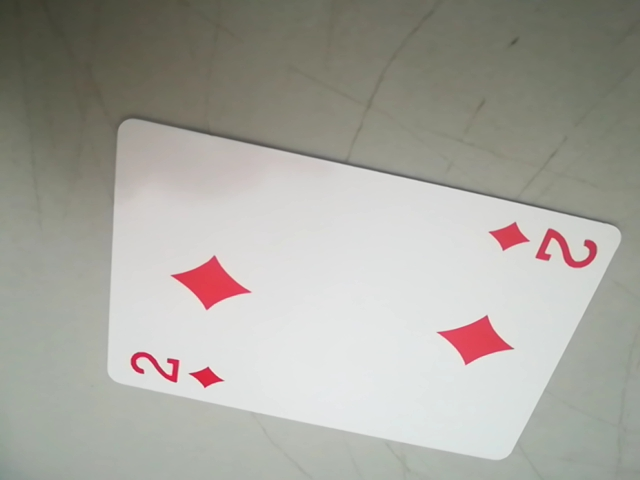fk 2: (485, 217, 606, 275), (118, 341, 237, 395)
